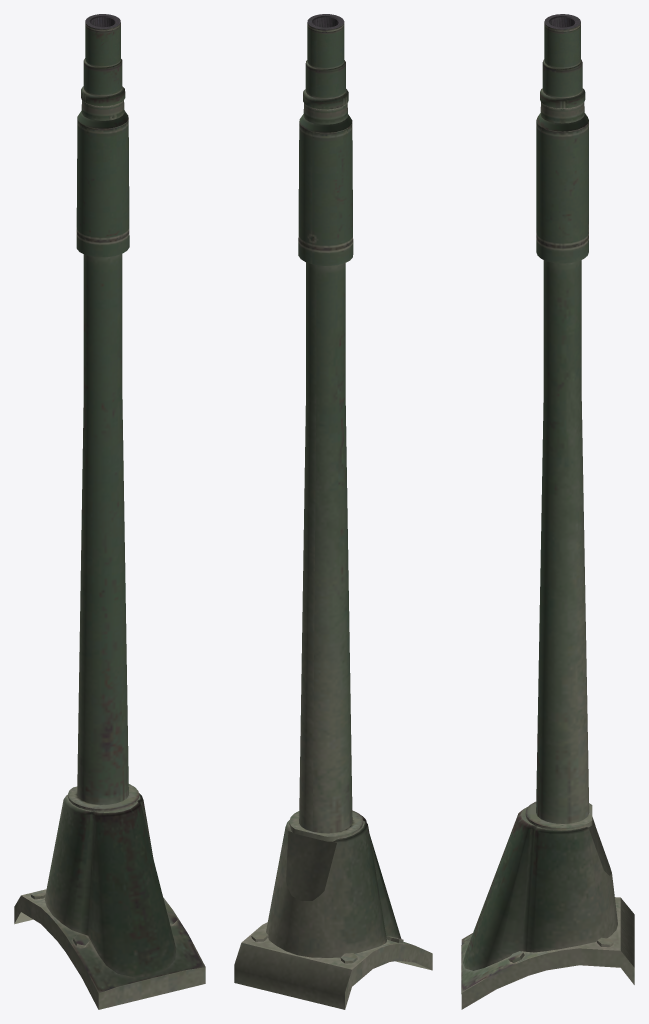
Rendered from Gun_01.glb.
3 renders of one model, left to right at view 1: azimuth 30°, elevation 25°; view 2: azimuth 150°, elevation 25°; view 3: azimuth 270°, elevation 25°, orthographic. The views are drawn at different scales.
Parts seen in each view (by area): view 1: set_0_group_0; view 2: set_0_group_0; view 3: set_0_group_0.
Boxes of the visible parts, x1,y1,x2,y2 form: set_0_group_0: (14, 14, 205, 1009); set_0_group_0: (234, 14, 432, 1009); set_0_group_0: (461, 14, 634, 1009).
Size of the model in its own units: 0.4244 by 3.55 by 0.5799.
1 material, 1 textured.
